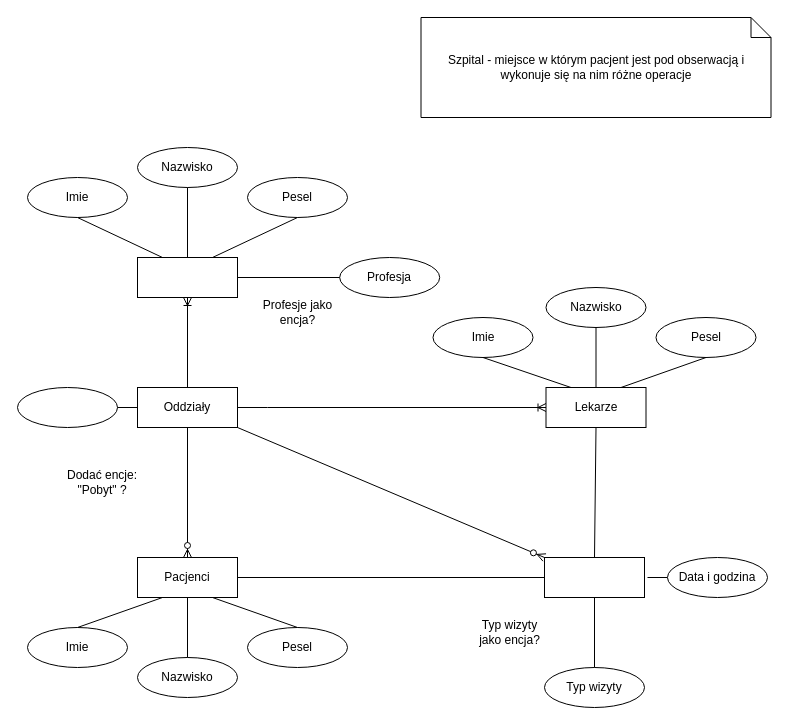
The diagram is 789 pixels wide and 725 high, and some of its shapes have lost their labels. The box of each missing label's shape, as (x1, y1, x2, y2) in pixels:
Personel: (136, 256, 238, 298)
Specjalizacja: (16, 386, 118, 428)
Wizyty: (544, 556, 644, 598)
